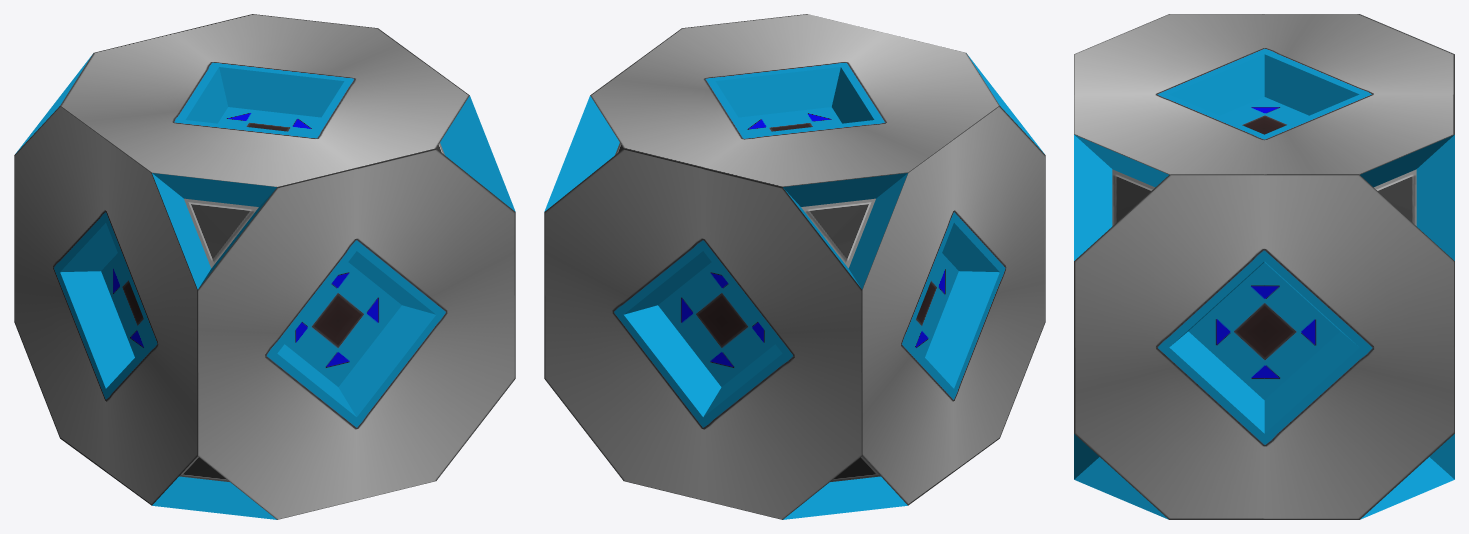
Rendered from hyper_fluid_sender.obj.
3 views of the same model, side by side, from view 1: azimuth 30°, elevation 25°; view 2: azimuth 150°, elevation 25°; view 3: azimuth 270°, elevation 25° (orthographic). The views are drawn at different scales.
Visible parts, largest first — view 1: Cube; view 2: Cube; view 3: Cube.
Boxes of the visible parts, <box> form: Cube: <box>14,14,515,519</box>; Cube: <box>544,14,1045,519</box>; Cube: <box>1074,14,1454,519</box>.
Bounding box in the file's own units: 1 × 1 × 1.
